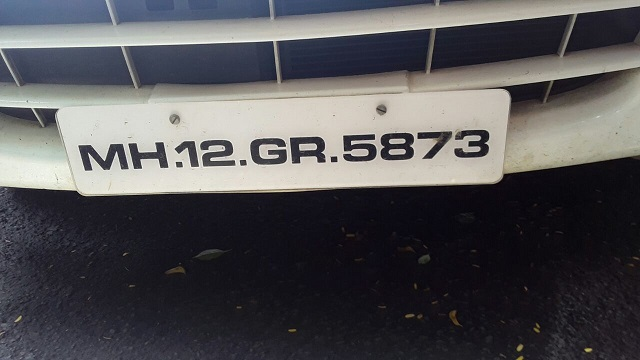licenseplate: (55, 84, 512, 191)
